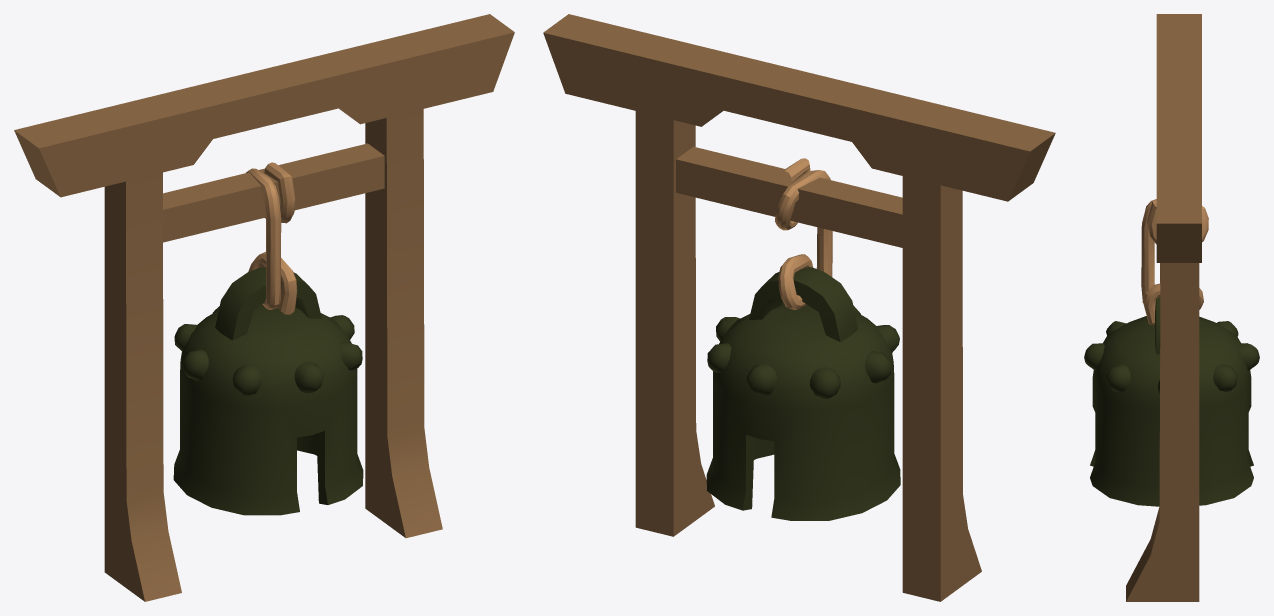
Rendered from bell.glb.
3 views of the same model, side by side, from view 1: azimuth 30°, elevation 25°; view 2: azimuth 150°, elevation 25°; view 3: azimuth 270°, elevation 25° (orthographic). The views are drawn at different scales.
Parts seen in each view (by area): view 1: Decoration_Bell; view 2: Decoration_Bell; view 3: Decoration_Bell.
Boxes of the visible parts, bbox=[...] form: Decoration_Bell: bbox=[14, 14, 514, 601]; Decoration_Bell: bbox=[543, 14, 1055, 601]; Decoration_Bell: bbox=[1084, 14, 1259, 601].
Bounding box in the file's own units: 3.92 × 3.64 × 1.39.
